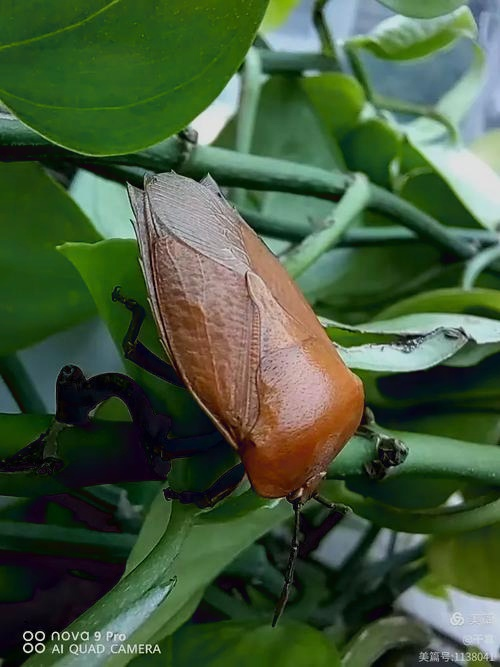Stink_Bug: (122, 189, 369, 490)
